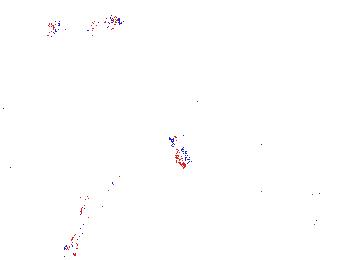X-ray fish: (165, 133, 193, 174)
glassfish: (185, 134, 277, 201), (68, 160, 124, 250)
redtail glassfish: (45, 13, 127, 40)
